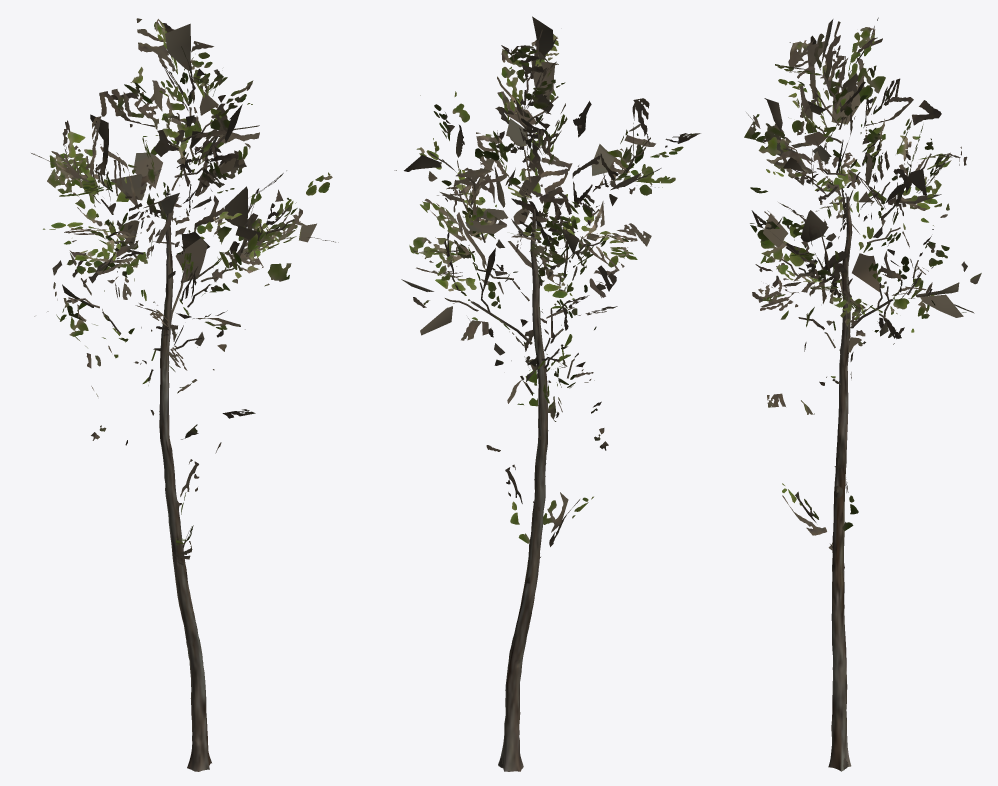
File: SM_BlackAlder_Forest_06_PP_LOD1.gltf
3 renders of one model, left to right at view 1: azimuth 30°, elevation 25°; view 2: azimuth 150°, elevation 25°; view 3: azimuth 270°, elevation 25°, orthographic. The views are drawn at different scales.
Visible parts, largest first — view 1: SM_BlackAlder_Forest_06_PP; view 2: SM_BlackAlder_Forest_06_PP; view 3: SM_BlackAlder_Forest_06_PP.
Part boxes in pixels (x1=…): SM_BlackAlder_Forest_06_PP: x1=31, y1=18, x2=338, y2=771; SM_BlackAlder_Forest_06_PP: x1=394, y1=16, x2=700, y2=771; SM_BlackAlder_Forest_06_PP: x1=744, y1=17, x2=981, y2=771.
Size of the model in its own units: 3.57 by 8.88 by 2.72.
Materials: 3 (3 with a texture image).
